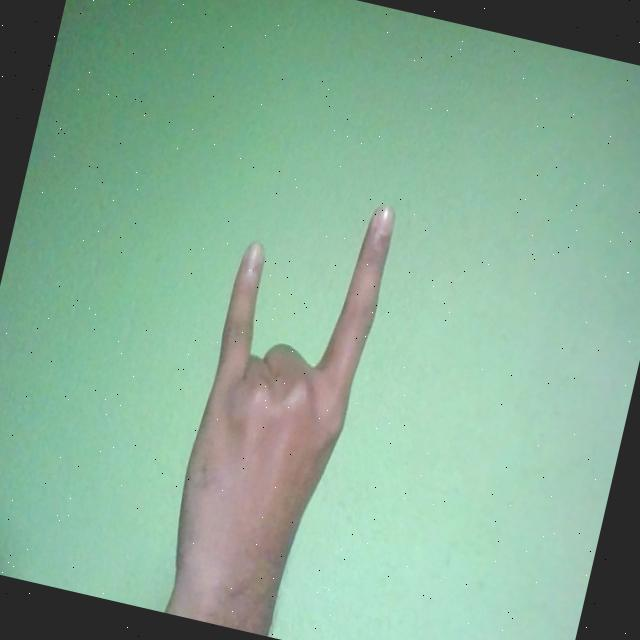open Plam: (153, 172, 399, 640)
